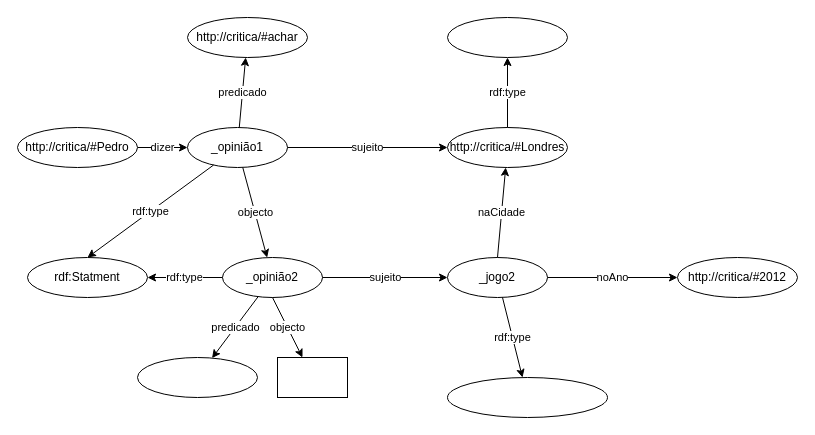
The diagram is 815 pixels wide and 435 high, and some of its shapes have lost their labels. The box of each missing label's shape, as (x1, y1, x2, y2) in pixels:
fabulosa: (276, 356, 348, 398)
http://critica/#Cidade: (446, 16, 568, 58)
http://critica/#JogosOlimpicos: (446, 376, 608, 418)
http://critica/#ser: (136, 356, 258, 398)
